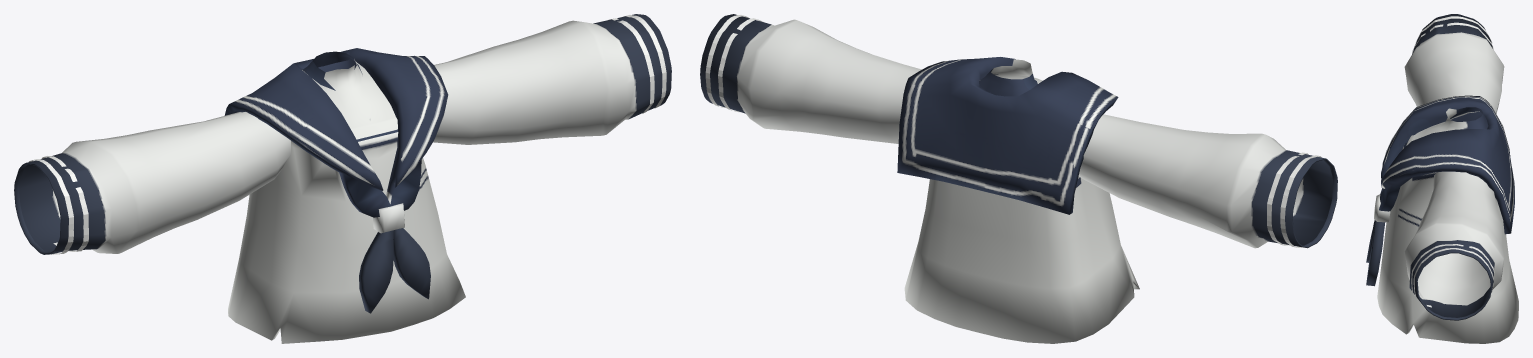
Rendered from sailor-painted-top.glb.
The picture shows the model from 3 angles, left to right: view 1: azimuth 30°, elevation 25°; view 2: azimuth 150°, elevation 25°; view 3: azimuth 270°, elevation 25°; orthographic projection. The views are drawn at different scales.
Visible parts, largest first — view 1: Sailor_top; view 2: Sailor_top; view 3: Sailor_top.
Part boxes in pixels (x1,y1,x2,y2): Sailor_top: [14, 14, 671, 343]; Sailor_top: [700, 14, 1337, 343]; Sailor_top: [1366, 14, 1518, 343].
Size of the model in its own units: 2.82 by 1.09 by 0.7638.
Materials: 1 (1 with a texture image).
